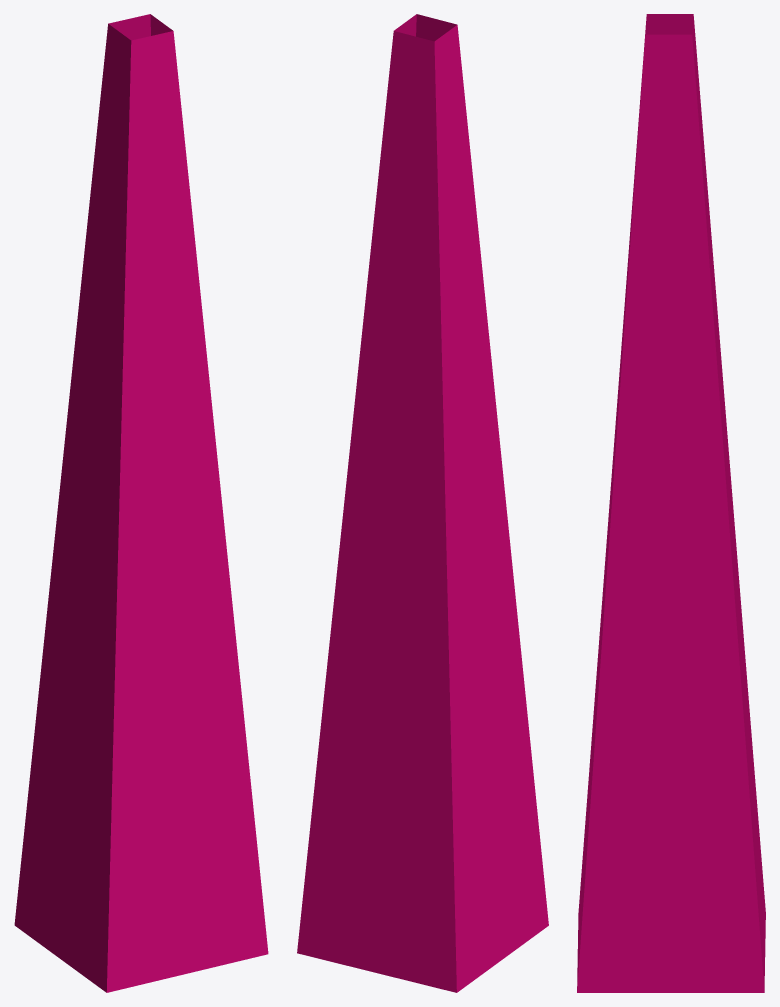
The model's file is Windmill_01_Base_Lod1.fbx.
3 renders of one model, left to right at view 1: azimuth 30°, elevation 25°; view 2: azimuth 150°, elevation 25°; view 3: azimuth 270°, elevation 25°, orthographic.
Visible parts, largest first — view 1: Windmill_01_Base_Lod1; view 2: Windmill_01_Base_Lod1; view 3: Windmill_01_Base_Lod1.
Part boxes in pixels (x1,y1,x2,y2): Windmill_01_Base_Lod1: [14, 14, 268, 992]; Windmill_01_Base_Lod1: [297, 14, 548, 992]; Windmill_01_Base_Lod1: [577, 14, 765, 992].
Bounding box in the file's own units: 131 × 712 × 131.
